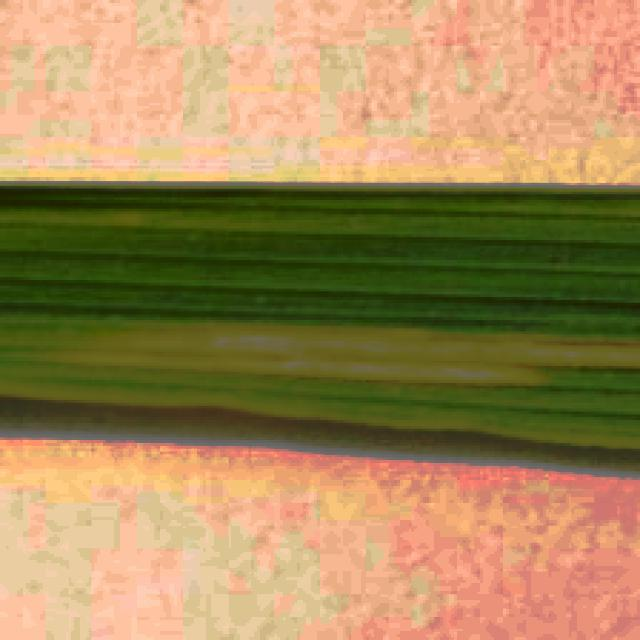unhealth: (2, 186, 640, 450)
